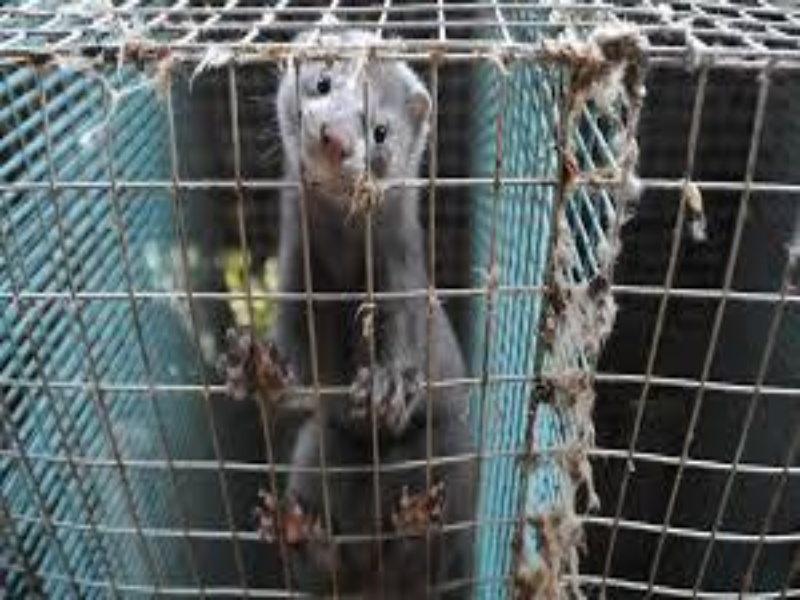minkish: (206, 16, 483, 592)
